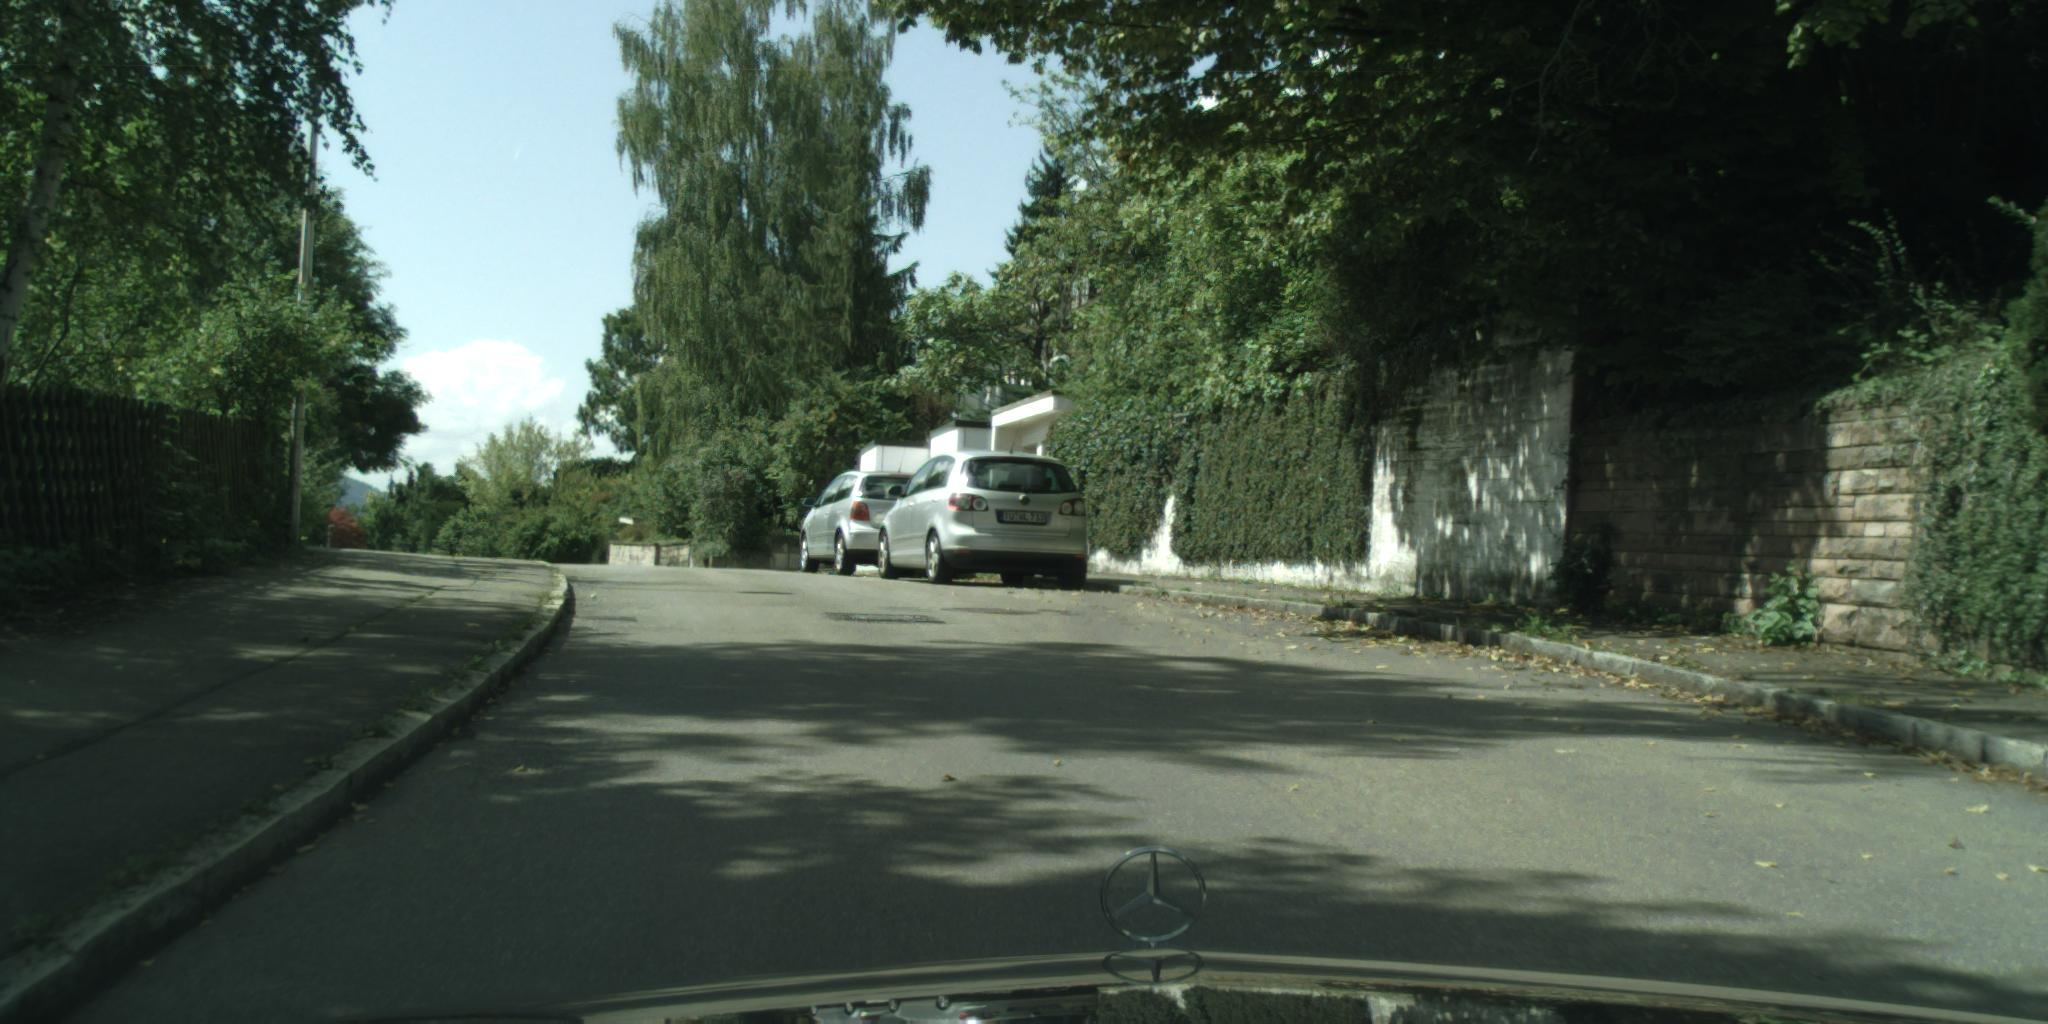car: (878, 451, 1089, 593), (801, 472, 917, 576)
